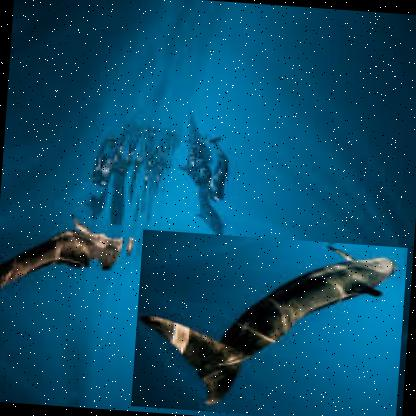blue_whale: (131, 228, 410, 415)
